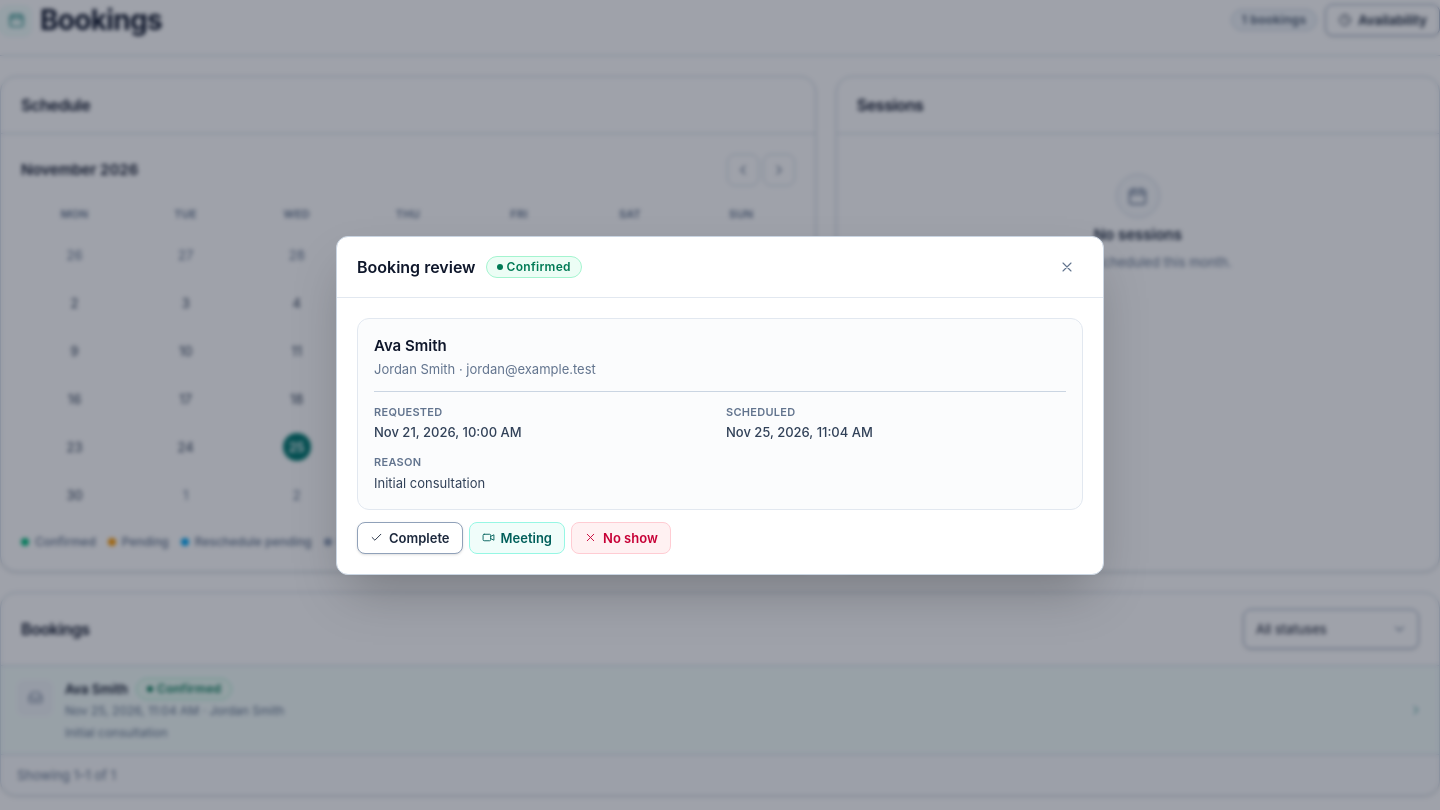
Test: review actions by booking status › opens the notes dialog when completing a confirmed booking
Click the button "Complete": (410, 538) [357,522,463,554]
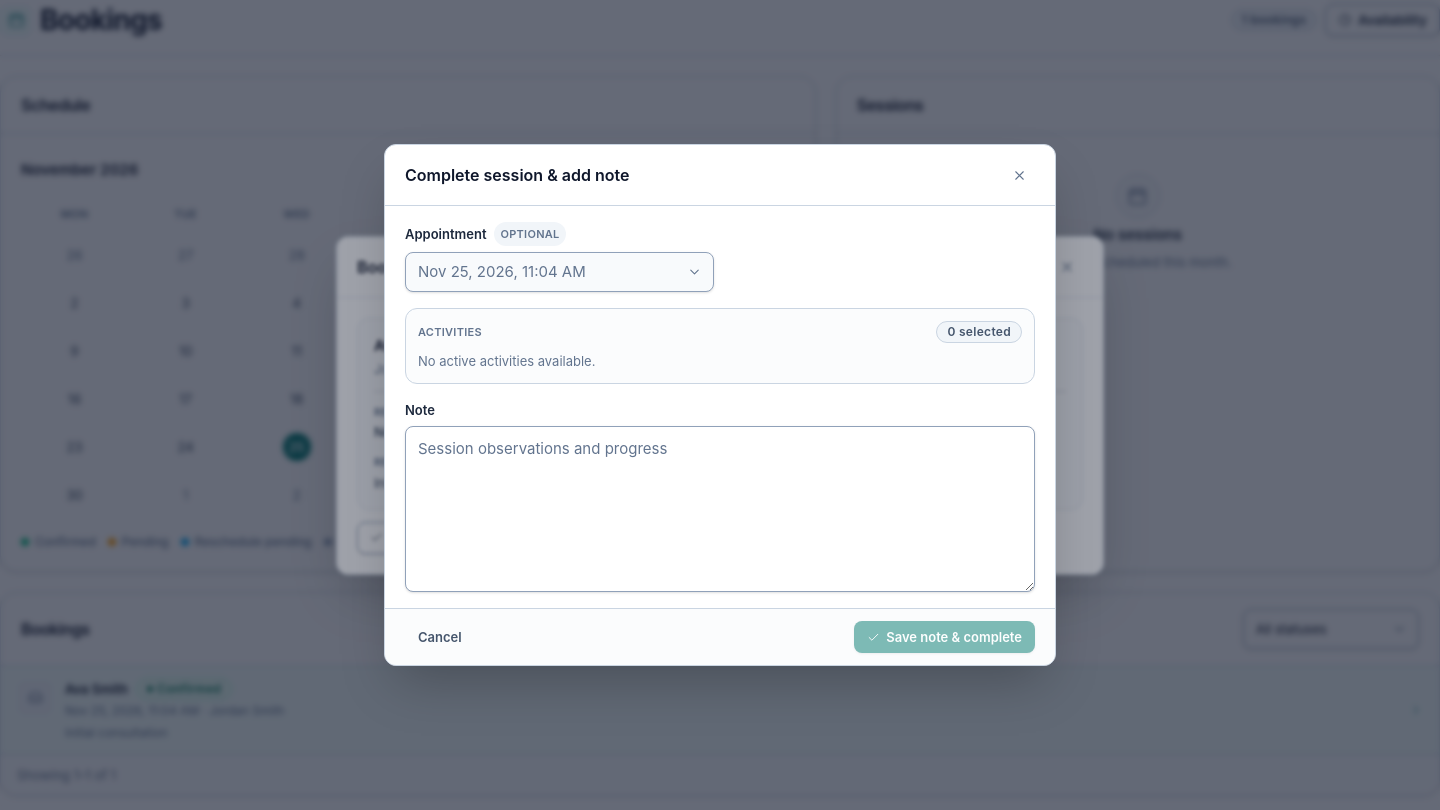
Result: the dialog "Complete session & add note" is shown at [384,144,1056,666]
